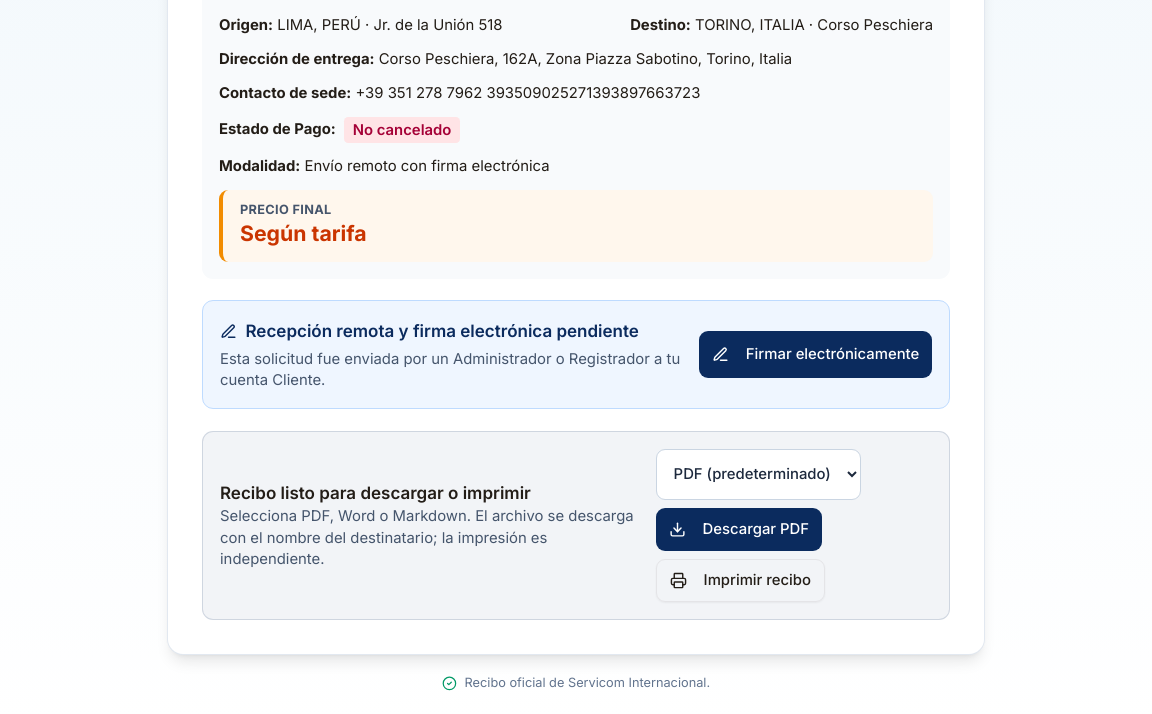
ReceiptPage › muestra la firma solo al Cliente autenticado que abrió su enlace enviado
This screenshot has width=1152, height=714.
(page scrolled)
What coordinates should you click on to do the following:
click the button "Firmar electrónicamente"
I would click on:
 (816, 355)
Its box is [699,331,932,378].
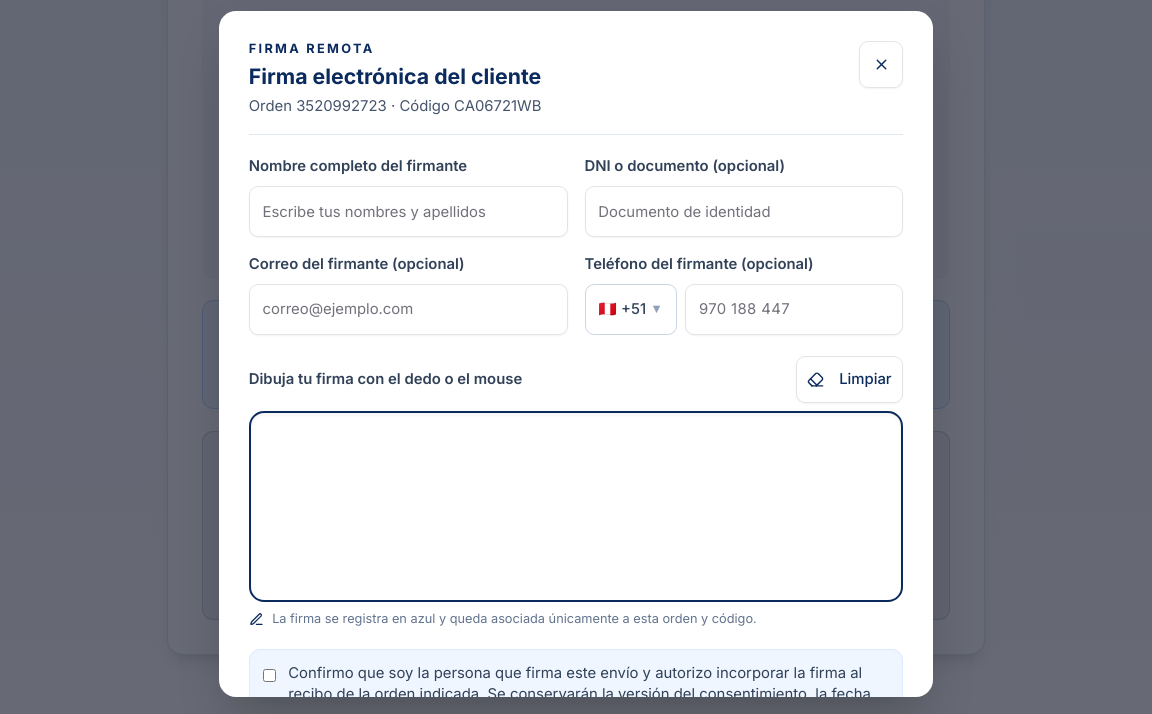
Now the dialog is shown, box [219,11,933,697]
Now the heading "Firma electrónica del cliente" is shown, box [249,62,541,92]
